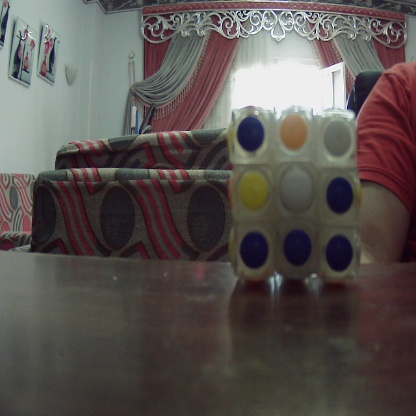Rubix Cube: (228, 108, 362, 283)
